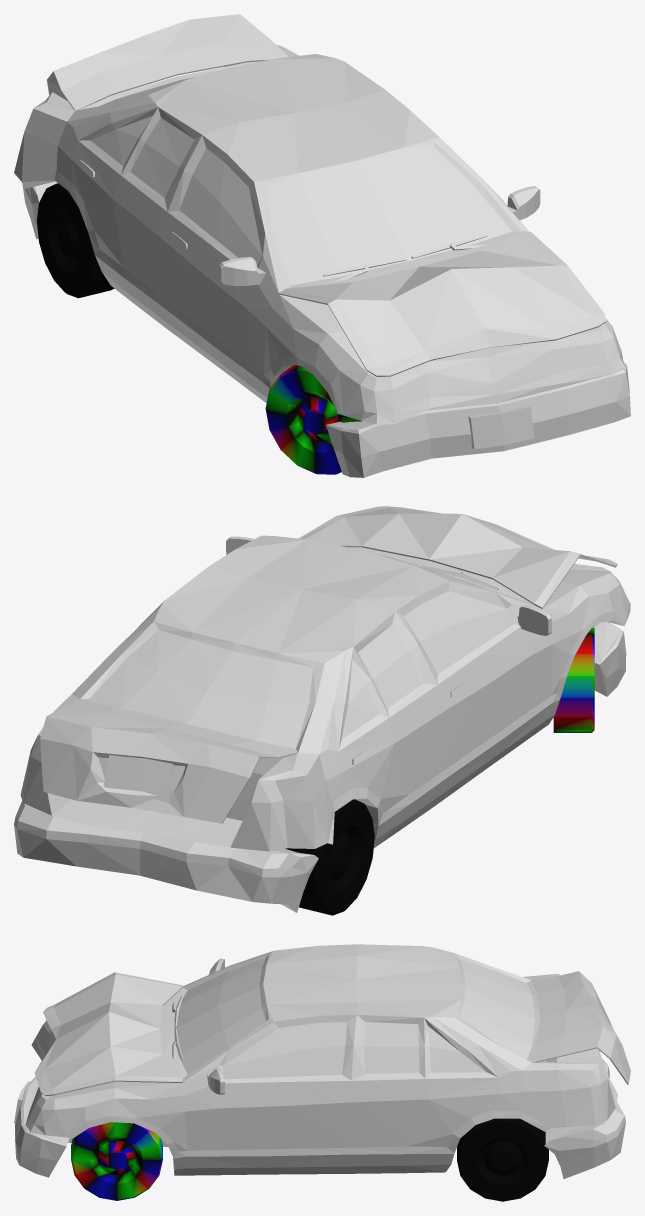
The model's file is kimizi.FBX.
3 views of the same model, one above another, from view 1: azimuth 30°, elevation 25°; view 2: azimuth 150°, elevation 25°; view 3: azimuth 270°, elevation 25° (orthographic). The views are drawn at different scales.
Visible parts, largest first — view 1: kırmızı; view 2: kırmızı; view 3: kırmızı.
Boxes of the visible parts, x1,y1,x2,y2 form: kırmızı: [14, 14, 630, 477]; kırmızı: [14, 506, 630, 915]; kırmızı: [14, 944, 630, 1201].
Bounding box in the file's own units: 227 × 149 × 483.
